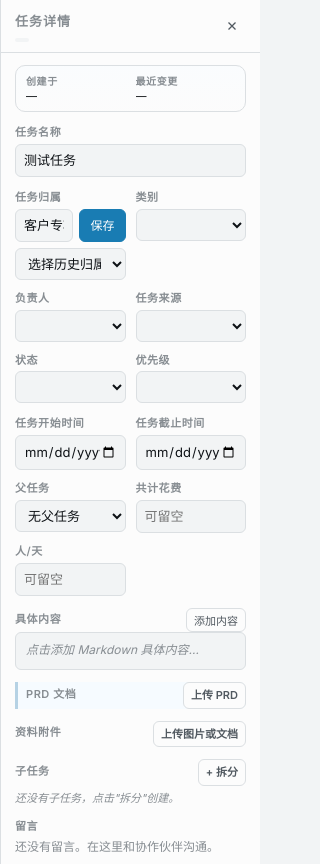
DetailPanel task belonging › saves the default belonging when the user clears the field
Clear the field with test id "task-belonging-input" at (44, 226), box [15,209,74,242]
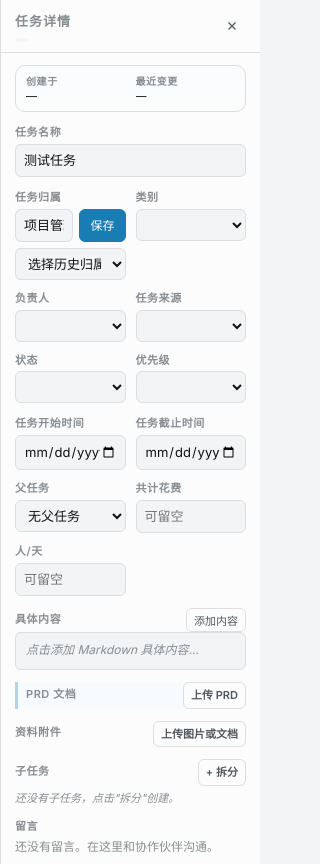
Expected: the field with test id "task-belonging-input" holds "项目管理", [15,209,74,242]
